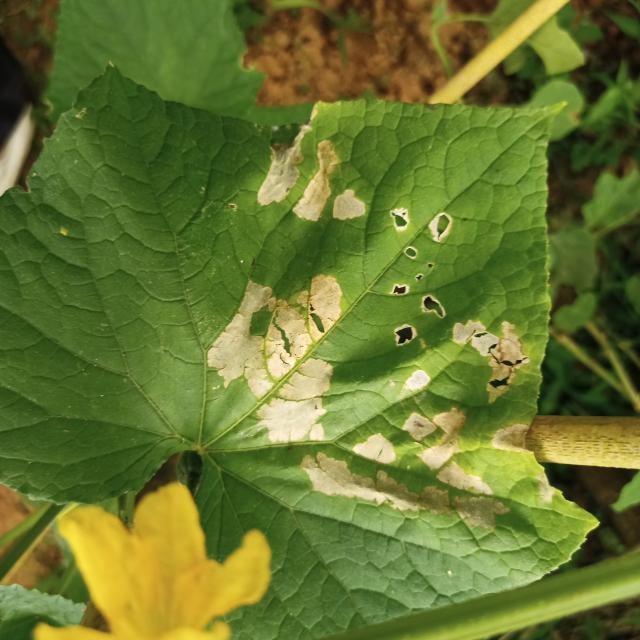disease_cucumber: (207, 121, 530, 534)
